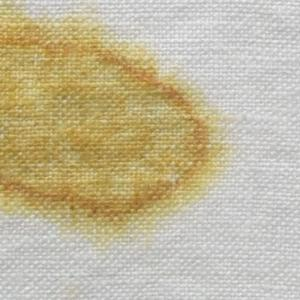Oil Stain: (1, 1, 241, 248)
